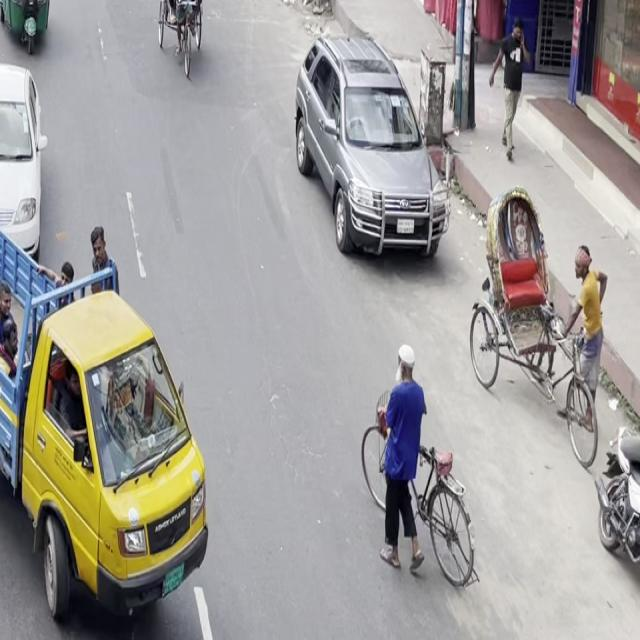bicycle: (351, 336, 481, 596)
car: (286, 29, 452, 270), (0, 50, 53, 256)
rickshaw: (0, 0, 62, 61)
van: (0, 276, 229, 616)
